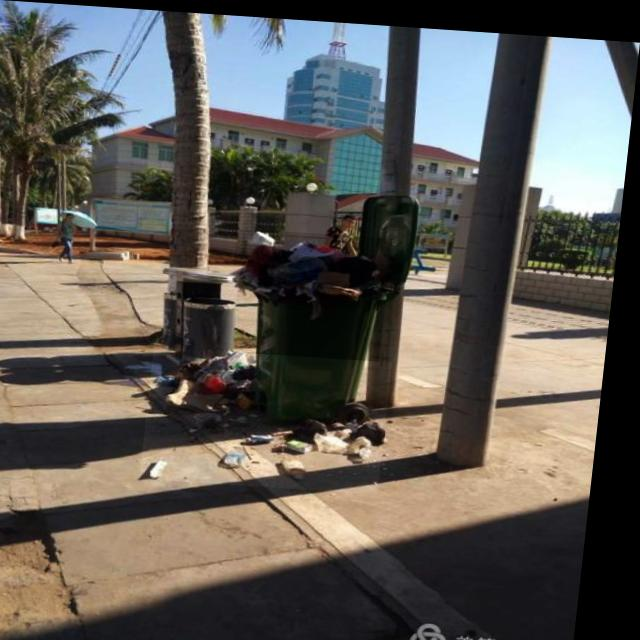garbage: (150, 344, 400, 489)
garbage_bin: (162, 262, 246, 355)
overflow: (226, 225, 398, 420)
